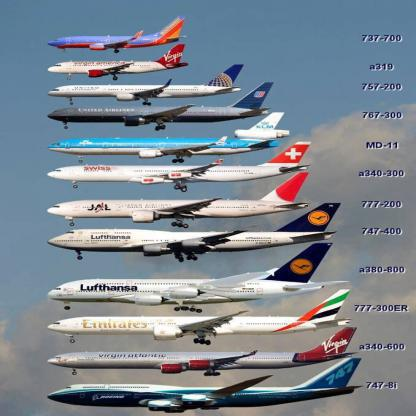CIV_Plane: (33, 199, 349, 270), (41, 242, 341, 308), (32, 284, 366, 342), (41, 356, 365, 413), (33, 323, 362, 375), (38, 167, 324, 223), (48, 139, 309, 189), (39, 107, 294, 157), (41, 79, 275, 131), (34, 60, 246, 104), (36, 10, 204, 51), (40, 43, 194, 79)
